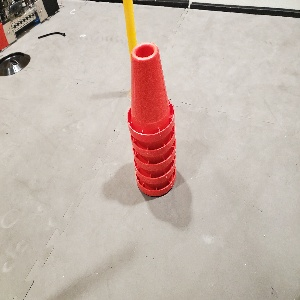Red_5: (125, 40, 178, 200)
